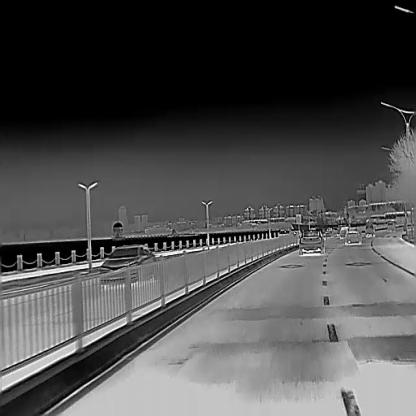car: (99, 244, 157, 284), (297, 229, 324, 254), (346, 226, 362, 244), (365, 222, 375, 236), (339, 226, 346, 238), (324, 229, 332, 237)
